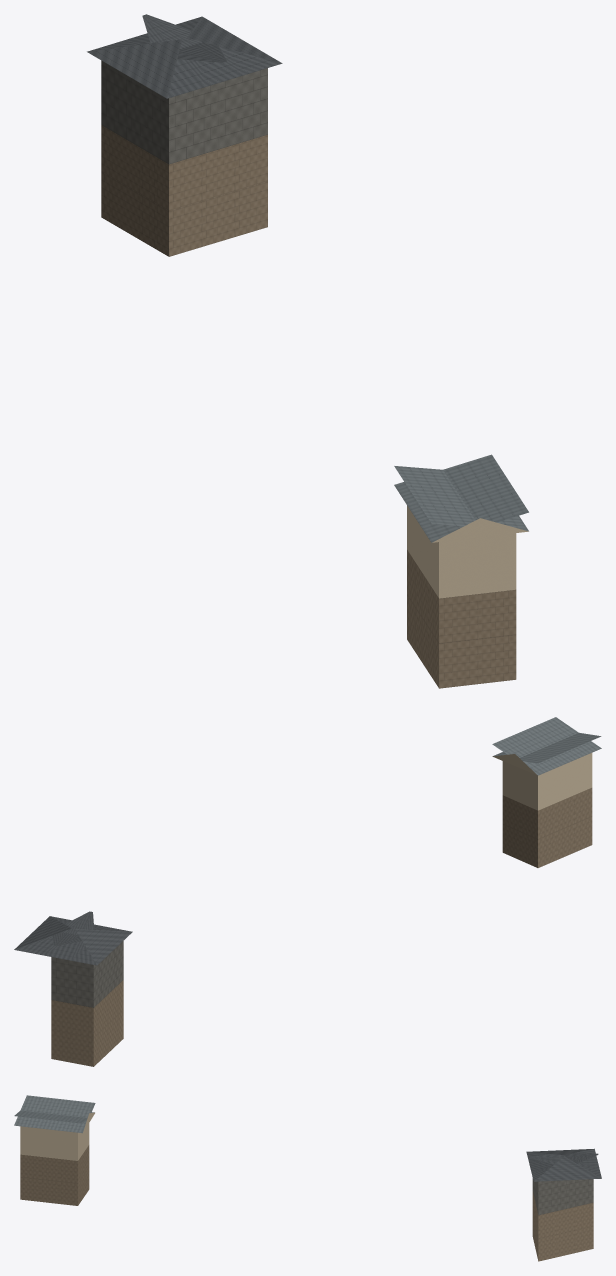
The model's file is bld_c2_17_463.gltf.
3 renders of one model, top to bottom at view 1: azimuth 30°, elevation 25°; view 2: azimuth 150°, elevation 25°; view 3: azimuth 270°, elevation 25°, orthographic. The views are drawn at different scales.
Parts seen in each view (by area): view 1: bld_c2_17_463; view 2: bld_c2_17_463; view 3: bld_c2_17_463.
Boxes of the visible parts, left/top/right/bottom form: bld_c2_17_463: left=87, top=14, right=528, bottom=688; bld_c2_17_463: left=14, top=717, right=601, bottom=1066; bld_c2_17_463: left=14, top=1095, right=601, bottom=1261.
Bounding box in the file's own units: 19.58 × 10 × 55.67.
6 materials, 6 textured.
